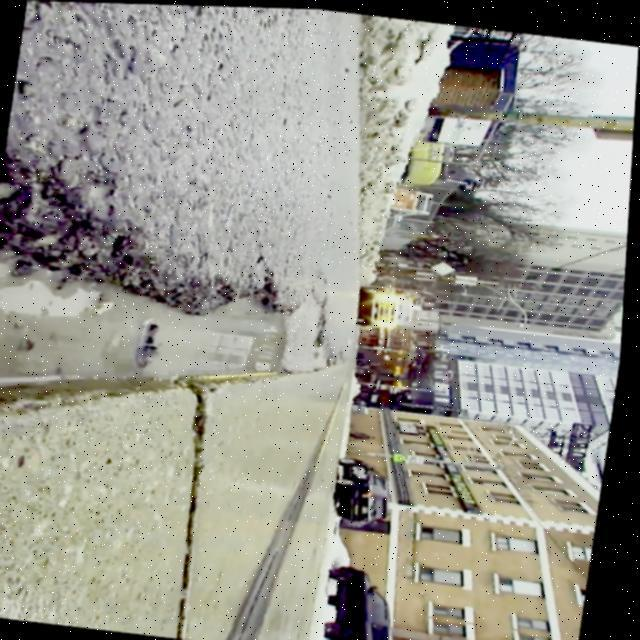pothole: (0, 219, 346, 437)
